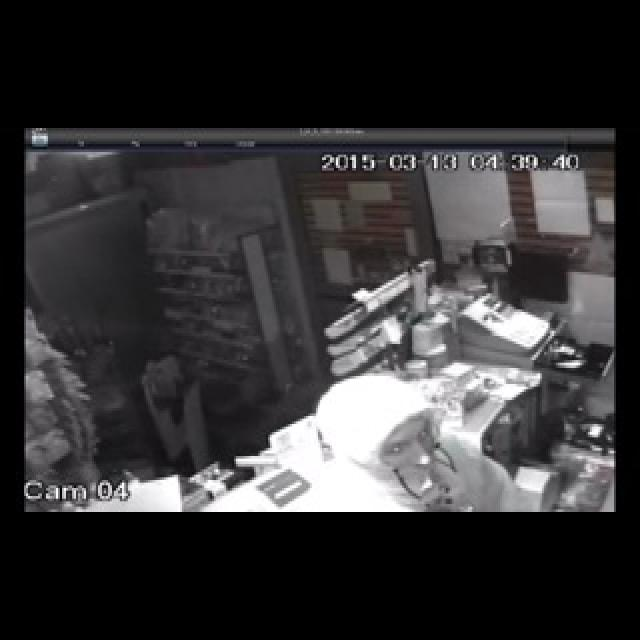thief: (299, 356, 472, 505)
